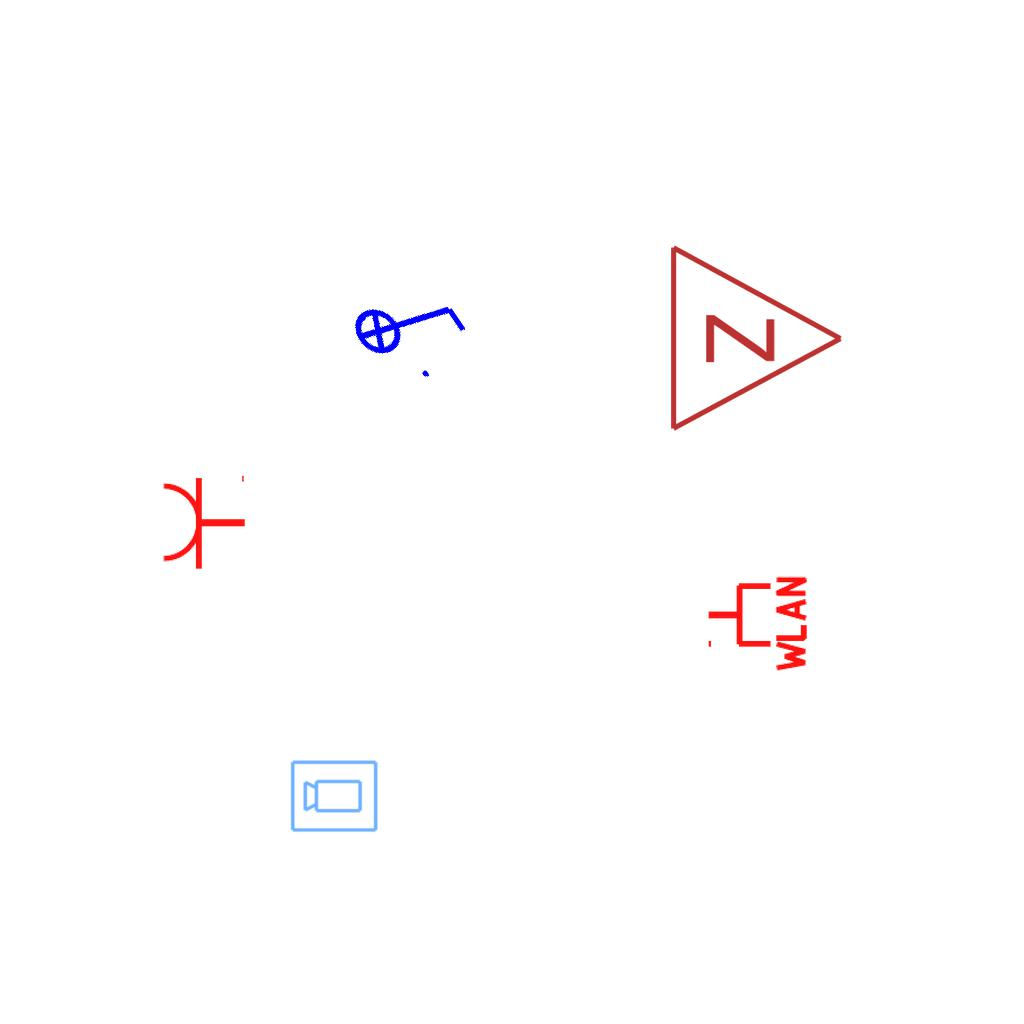Ausschalter_beleuchtet: (334, 250, 482, 396)
KFO_Kamera_mit_Festobjektiv: (289, 757, 380, 834)
Schukosteckdose_einfach: (160, 471, 247, 571)
WLAN: (704, 572, 809, 676)
Zimmersignalleuchte: (656, 238, 856, 434)
